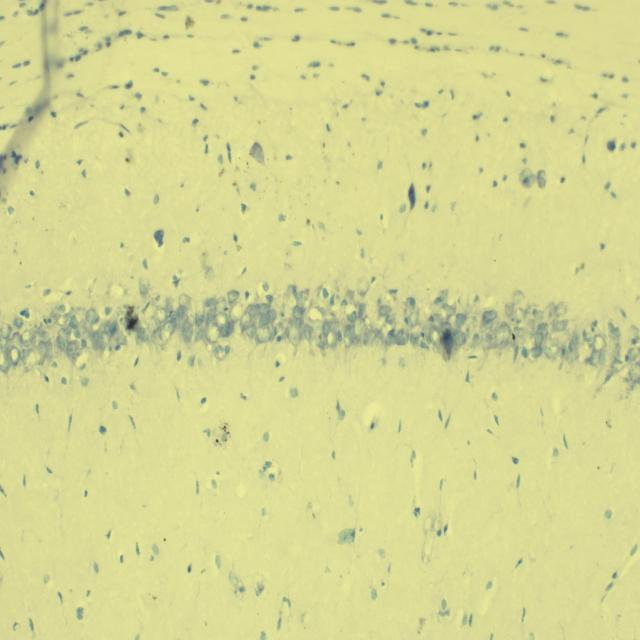neuron: (322, 319, 340, 349), (312, 319, 327, 348), (229, 299, 246, 322), (205, 320, 220, 344), (159, 321, 175, 343), (284, 285, 298, 310), (499, 321, 512, 347), (428, 324, 442, 347), (288, 324, 302, 346), (38, 323, 54, 342), (355, 276, 370, 296), (296, 288, 310, 309), (383, 327, 397, 348), (396, 327, 410, 348), (108, 284, 125, 301), (24, 349, 36, 373), (255, 326, 271, 344), (66, 340, 80, 359), (240, 312, 252, 334), (482, 309, 498, 325), (137, 327, 152, 344), (139, 276, 150, 299), (20, 330, 34, 348), (545, 342, 559, 360), (592, 335, 606, 353), (371, 332, 384, 351), (422, 315, 435, 334), (193, 324, 205, 344), (354, 318, 366, 338), (588, 347, 600, 367), (452, 329, 466, 346), (45, 339, 54, 365), (195, 305, 206, 326), (629, 362, 640, 383), (58, 327, 70, 346), (37, 341, 46, 366), (511, 290, 526, 305), (214, 312, 228, 328), (9, 345, 20, 365), (0, 350, 10, 372), (182, 321, 192, 343), (219, 318, 230, 338), (274, 322, 285, 342), (343, 329, 354, 349), (10, 330, 22, 348), (214, 344, 226, 362), (91, 331, 101, 352), (554, 301, 569, 315), (583, 323, 594, 342), (627, 346, 640, 362), (86, 308, 98, 325), (303, 322, 313, 342), (178, 294, 192, 308), (442, 303, 456, 317), (565, 351, 579, 365), (176, 306, 188, 322), (215, 296, 227, 312), (454, 313, 466, 329), (598, 349, 610, 365), (72, 348, 83, 365), (100, 331, 111, 348), (156, 307, 167, 324), (482, 334, 493, 351), (202, 294, 216, 307), (257, 314, 270, 328), (247, 304, 260, 318), (378, 304, 392, 317), (514, 308, 527, 322), (530, 333, 544, 346), (3, 338, 13, 356), (1, 323, 12, 339), (204, 266, 215, 282), (408, 310, 419, 326), (441, 321, 452, 337), (108, 321, 118, 338), (56, 312, 68, 326), (70, 314, 82, 328), (257, 302, 271, 314), (432, 311, 444, 325), (532, 308, 544, 322), (552, 320, 566, 332), (50, 305, 61, 320), (357, 302, 366, 320), (227, 290, 240, 302), (404, 297, 416, 310), (530, 346, 543, 358), (536, 323, 548, 336), (148, 317, 157, 334), (632, 325, 640, 344), (246, 323, 256, 338), (292, 305, 302, 320), (505, 301, 515, 316), (514, 333, 526, 345), (516, 326, 528, 338), (609, 328, 621, 340), (267, 309, 278, 322), (346, 311, 357, 324), (55, 336, 65, 350), (571, 331, 580, 346), (557, 346, 568, 358), (14, 317, 24, 330), (116, 336, 129, 346), (206, 308, 216, 321), (171, 314, 180, 328), (187, 313, 195, 327), (78, 324, 88, 335), (31, 324, 38, 338), (188, 354, 195, 368), (22, 348, 28, 364), (398, 357, 406, 368), (471, 333, 479, 342), (74, 329, 81, 339), (386, 315, 393, 325), (80, 338, 86, 349)
